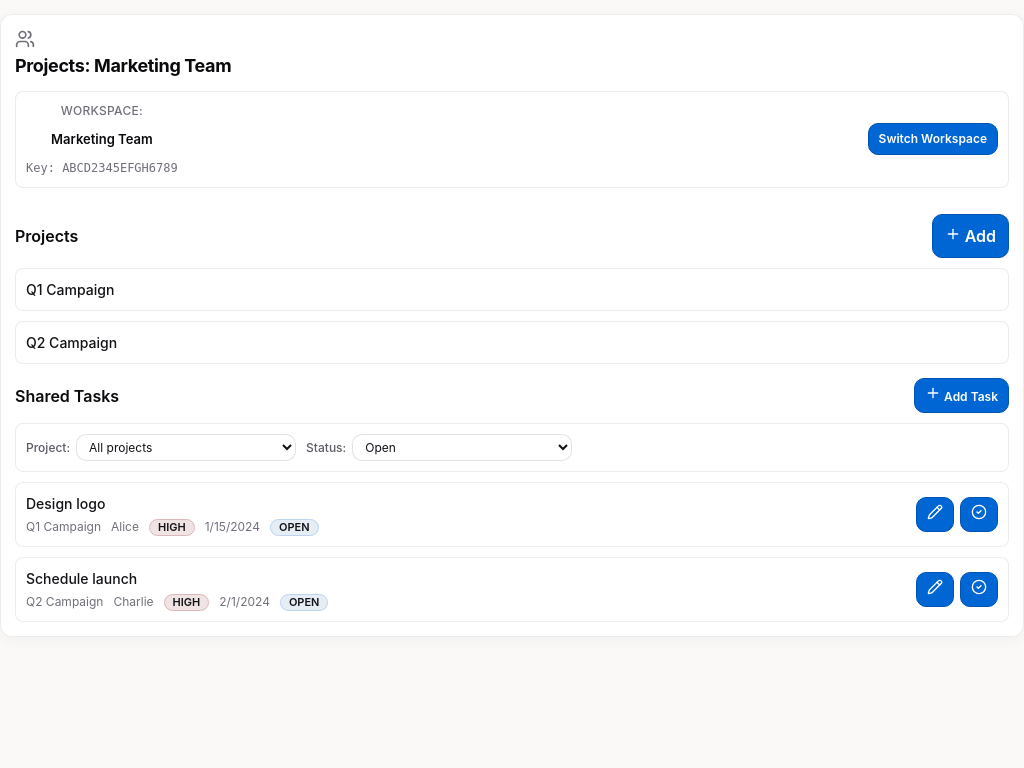
ProjectsPanel › Task board filters › status filter All shows open and done tasks
This screenshot has width=1024, height=768.
Select "All" in the dropdown labelled "Status:" at (462, 448), box [352,434,572,461]
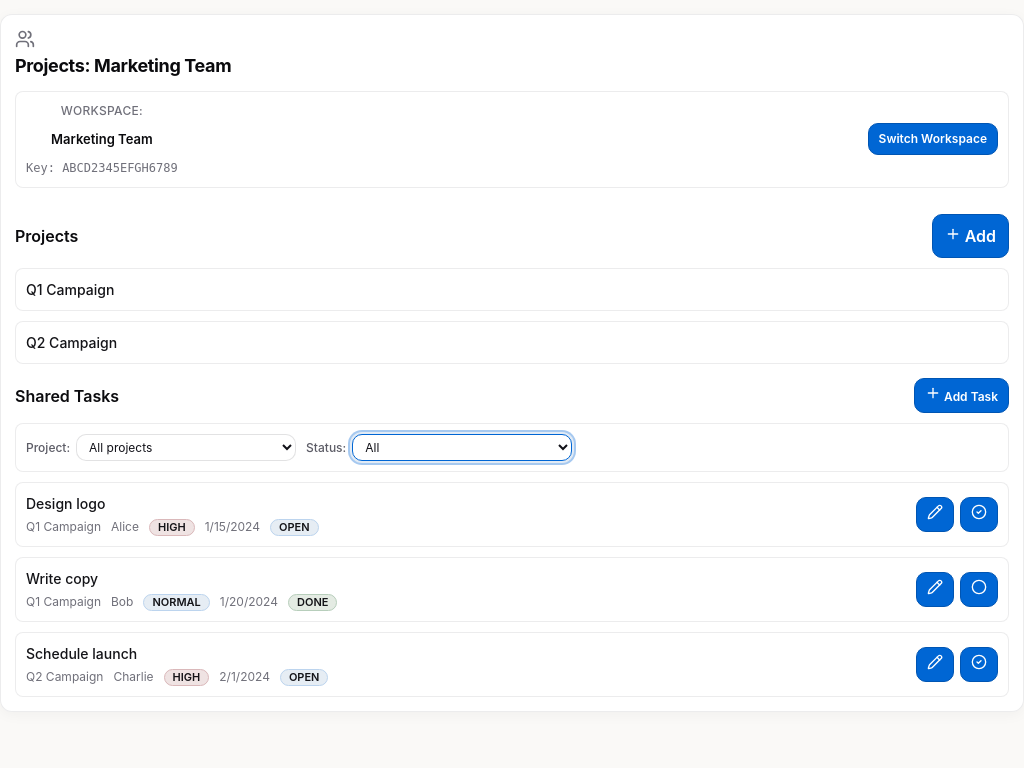
Expected: the text "Design logo" is shown, [26,495,105,512]
Now the text "Write copy" is shown, box [26,570,98,587]
